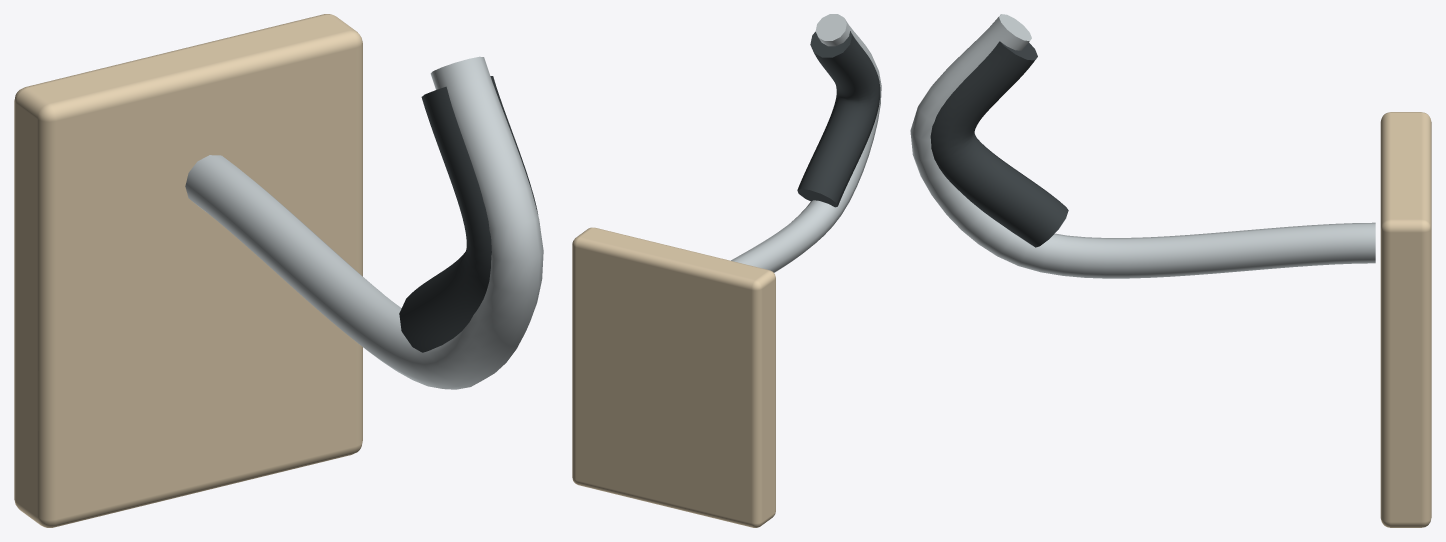
File: bicycle-shop-and-repair-cafe-wall-bicycle-hanger-b8b4d82d__32384.glb
3 renders of one model, left to right at view 1: azimuth 30°, elevation 25°; view 2: azimuth 150°, elevation 25°; view 3: azimuth 270°, elevation 25°, orthographic. The views are drawn at different scales.
Parts seen in each view (by area): view 1: wall-bicycle-hanger; view 2: wall-bicycle-hanger; view 3: wall-bicycle-hanger.
Boxes of the visible parts, x1,y1,x2,y2 form: wall-bicycle-hanger: [14, 14, 543, 527]; wall-bicycle-hanger: [572, 14, 881, 527]; wall-bicycle-hanger: [910, 14, 1431, 527].
Bounding box in the file's own units: 0.16 × 0.297 × 0.3069.
